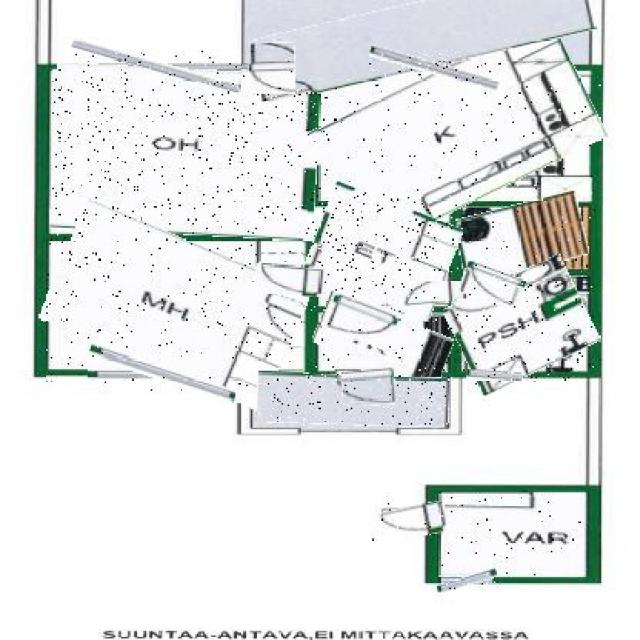door: (326, 294, 397, 346), (372, 503, 448, 542), (460, 265, 525, 306), (250, 43, 296, 94), (257, 266, 325, 297), (343, 368, 395, 406), (388, 282, 457, 306)
window: (70, 50, 242, 82), (88, 357, 237, 392), (369, 54, 500, 83), (437, 572, 498, 590), (466, 369, 522, 382)
zone: (317, 43, 600, 228), (52, 68, 318, 240), (46, 222, 303, 390), (250, 0, 596, 85), (308, 194, 457, 311), (449, 264, 594, 384), (438, 495, 580, 577), (455, 197, 588, 277), (315, 303, 451, 379), (258, 374, 450, 426)
